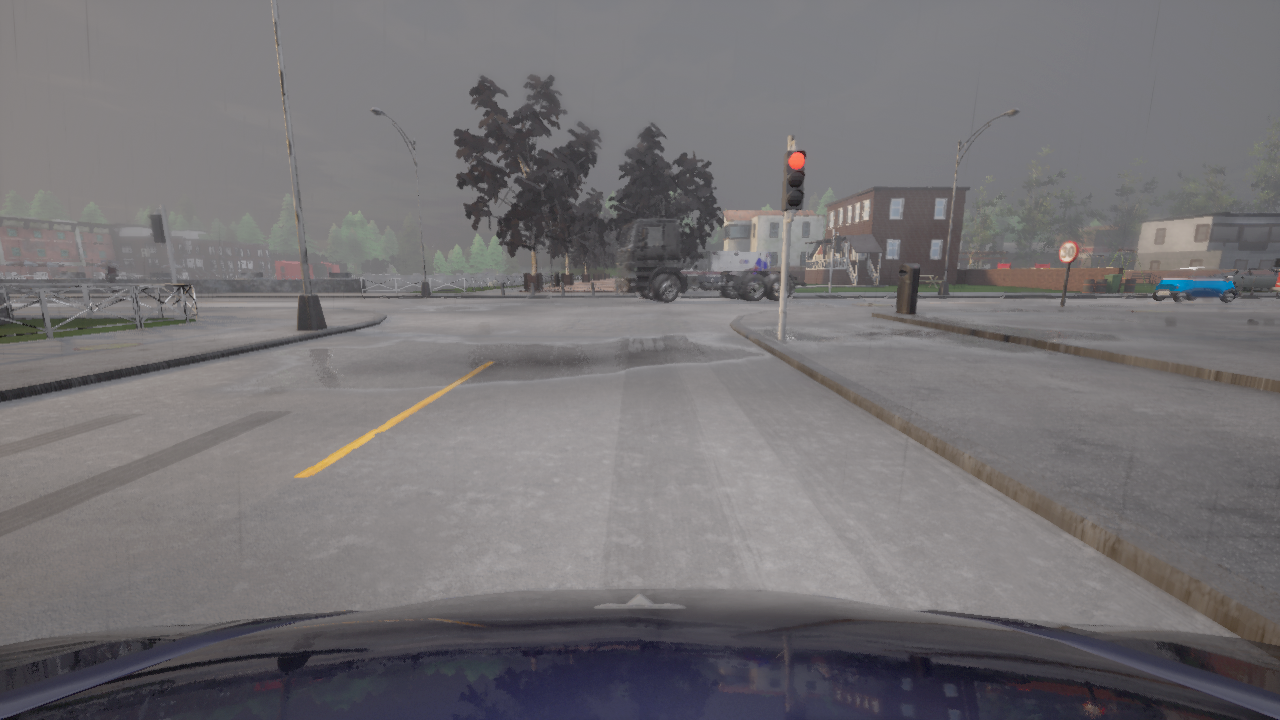cyclist: (0, 588, 1279, 719), (613, 218, 806, 303), (1151, 266, 1238, 303), (681, 250, 771, 273), (1225, 268, 1278, 290), (1269, 258, 1279, 290)
pedestrian: (105, 261, 117, 292)
